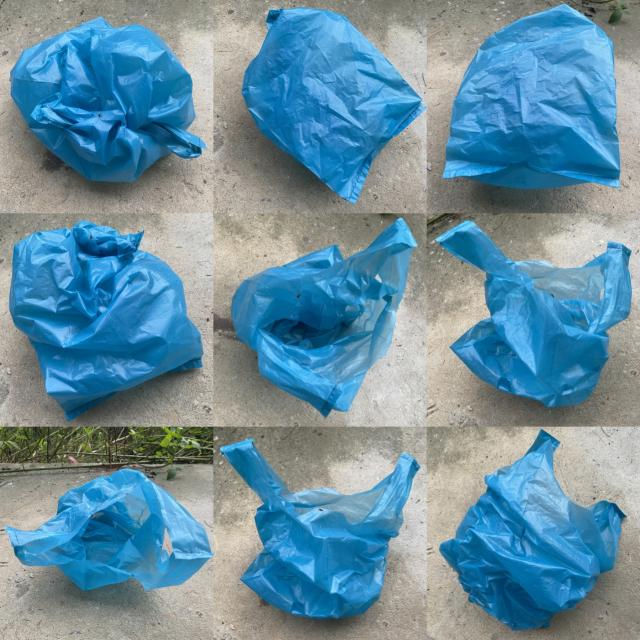Single-layer Plastic: (9, 221, 204, 420), (439, 430, 625, 630), (231, 219, 416, 416), (436, 221, 631, 406), (220, 439, 419, 619), (242, 8, 425, 202), (444, 5, 620, 188), (10, 18, 205, 182), (6, 469, 212, 590)
